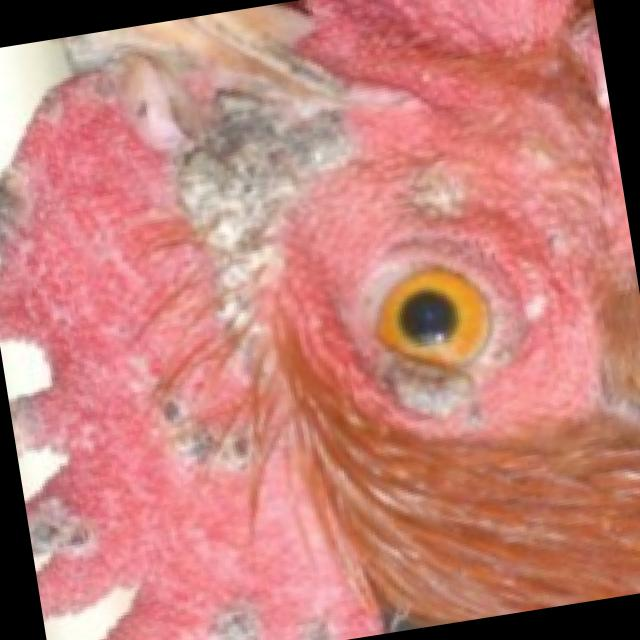Fowlpox: (0, 0, 598, 640)
